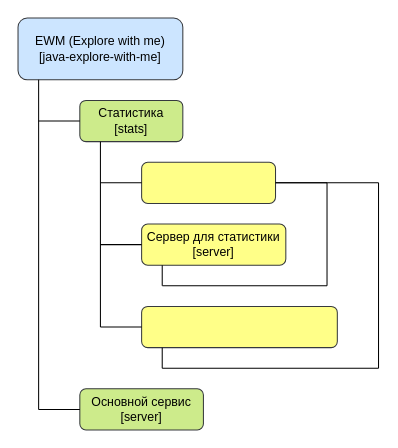
Image size: 398x448. Some labels were removed from this diagram. The centre of each missing label's shape, as x and y in pixels:
Клиент для сервера статистики [client]: [239,326]
Общие компоненты [common]: [208,182]
